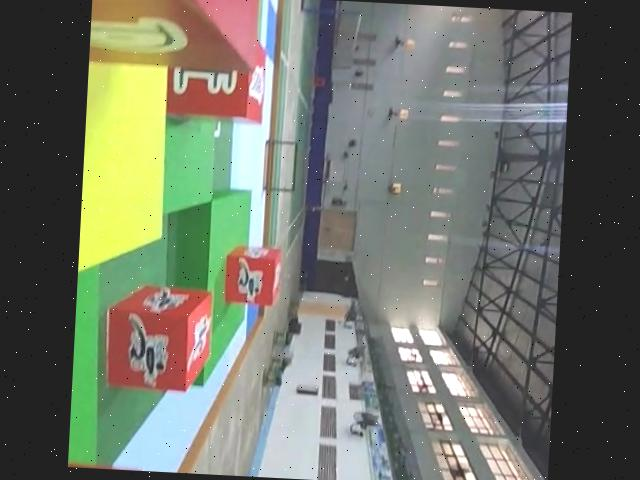R1: (101, 280, 214, 393), (222, 245, 281, 307)
R2 Real: (89, 0, 260, 70)
